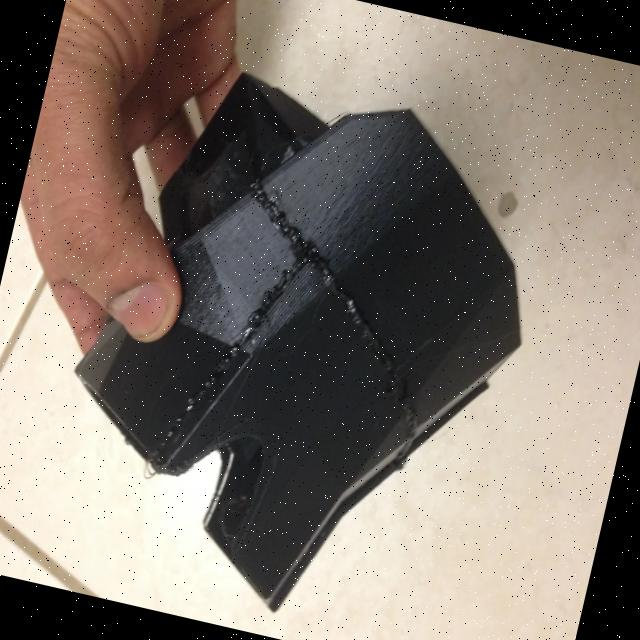blobs: (145, 170, 437, 472)
